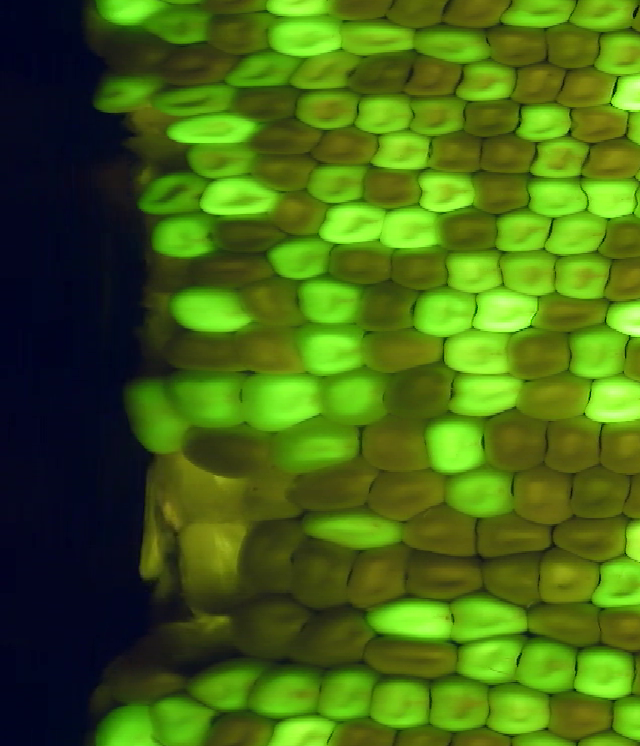fluorescent: (123, 378, 194, 456), (237, 371, 323, 432), (269, 415, 365, 469), (297, 509, 412, 553), (168, 369, 245, 431), (421, 413, 493, 476), (186, 659, 272, 711), (168, 286, 258, 333), (317, 369, 393, 424), (447, 592, 531, 641), (440, 467, 519, 519), (246, 664, 322, 718), (365, 599, 460, 642), (89, 71, 173, 119), (196, 175, 283, 221), (518, 632, 580, 696), (161, 113, 271, 149), (453, 636, 532, 686), (295, 274, 369, 326), (484, 681, 554, 735), (317, 664, 383, 721), (293, 84, 365, 135), (137, 170, 215, 217), (182, 137, 269, 179), (428, 674, 491, 732), (294, 324, 367, 373), (149, 84, 250, 119), (267, 13, 349, 56), (370, 677, 435, 731), (565, 327, 632, 379), (265, 235, 338, 282), (411, 286, 478, 337), (574, 646, 638, 699), (446, 371, 523, 415), (413, 24, 496, 64), (147, 215, 223, 258), (353, 89, 421, 137), (317, 202, 391, 246), (471, 289, 545, 333), (497, 246, 557, 299), (442, 333, 517, 375), (579, 373, 640, 424), (152, 698, 218, 745), (142, 5, 217, 46), (525, 173, 591, 219), (337, 17, 418, 54), (552, 252, 613, 300), (547, 210, 609, 257), (227, 49, 301, 88), (579, 173, 640, 220), (416, 167, 479, 212), (445, 250, 508, 295), (493, 207, 554, 253), (531, 136, 592, 182), (305, 162, 370, 204), (381, 207, 443, 251), (516, 101, 577, 145), (291, 50, 354, 91), (406, 95, 469, 136), (371, 131, 436, 170), (496, 1, 583, 30), (91, 709, 159, 746), (458, 59, 516, 102), (590, 559, 640, 608), (92, 1, 174, 29), (568, 1, 639, 33), (264, 716, 337, 746), (593, 30, 640, 75), (607, 694, 640, 741), (603, 298, 640, 339), (262, 1, 344, 18), (511, 731, 580, 746), (578, 732, 640, 746)
nonfluorescent: (232, 596, 306, 669), (237, 519, 305, 598), (179, 425, 276, 478), (290, 610, 375, 669), (367, 465, 449, 524), (363, 633, 460, 682), (292, 537, 354, 612), (399, 504, 483, 559), (101, 651, 186, 705), (483, 411, 552, 475), (525, 600, 610, 650), (508, 464, 575, 527), (406, 552, 486, 604), (360, 329, 449, 375), (345, 548, 412, 609), (473, 511, 557, 559), (385, 363, 458, 418), (100, 25, 177, 77), (361, 419, 434, 473), (477, 556, 547, 612), (536, 548, 601, 608), (287, 466, 377, 509), (545, 688, 620, 739), (159, 43, 241, 89), (551, 514, 631, 561), (517, 375, 596, 422), (235, 325, 307, 374), (237, 469, 305, 520), (567, 469, 634, 520), (164, 332, 247, 373), (547, 414, 603, 474), (206, 10, 275, 58), (358, 282, 420, 333), (325, 240, 395, 284), (506, 330, 576, 374), (468, 169, 534, 215), (211, 216, 288, 255), (531, 294, 612, 331), (308, 127, 381, 168), (361, 164, 422, 213), (350, 53, 416, 98), (487, 26, 551, 69), (390, 247, 454, 290), (243, 281, 304, 326), (480, 130, 538, 177), (203, 710, 278, 746), (410, 52, 465, 101), (196, 254, 275, 288), (544, 23, 601, 70), (439, 209, 502, 251), (272, 191, 329, 236), (253, 150, 317, 190), (430, 132, 488, 176), (559, 66, 618, 109), (564, 104, 630, 142), (582, 139, 640, 182), (511, 62, 567, 106), (599, 418, 640, 477), (461, 98, 523, 136), (252, 121, 323, 154), (327, 715, 401, 746), (235, 87, 302, 121), (77, 5, 119, 55), (441, 1, 511, 30), (385, 1, 454, 30), (598, 215, 640, 260), (598, 604, 640, 649), (602, 257, 640, 301), (392, 723, 458, 746), (329, 1, 394, 23), (447, 725, 515, 746), (201, 1, 269, 20)
